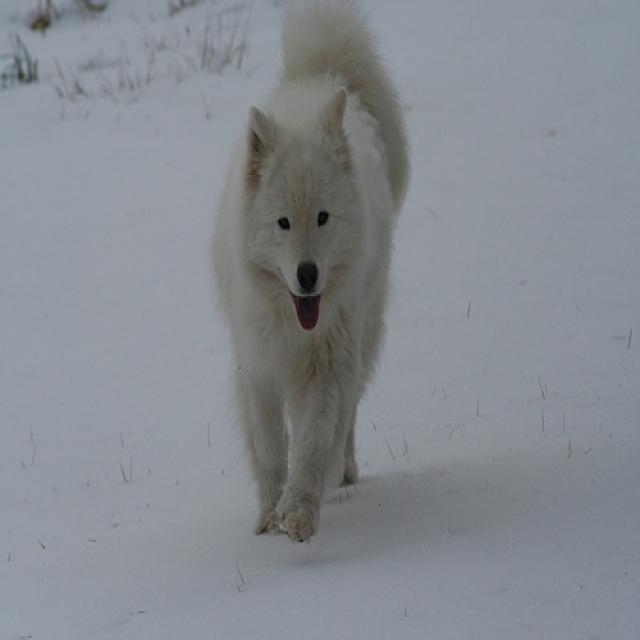dog-samoyed: (207, 2, 424, 538)
